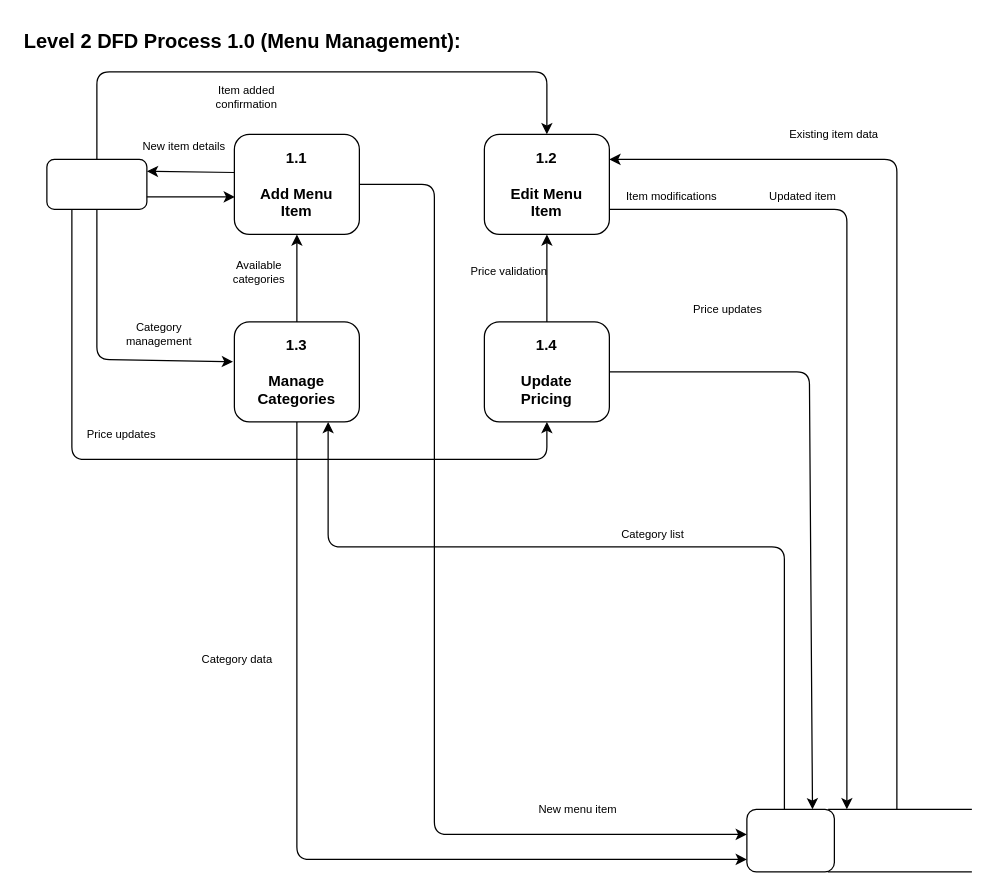
Some shapes in this 995 by 895 pixel diagram are drawn without their labels. Here are the shapes that lost their labels. From the top down, the centre of each, then its label:
the point at 96,183: Admin
the point at 790,840: DT
